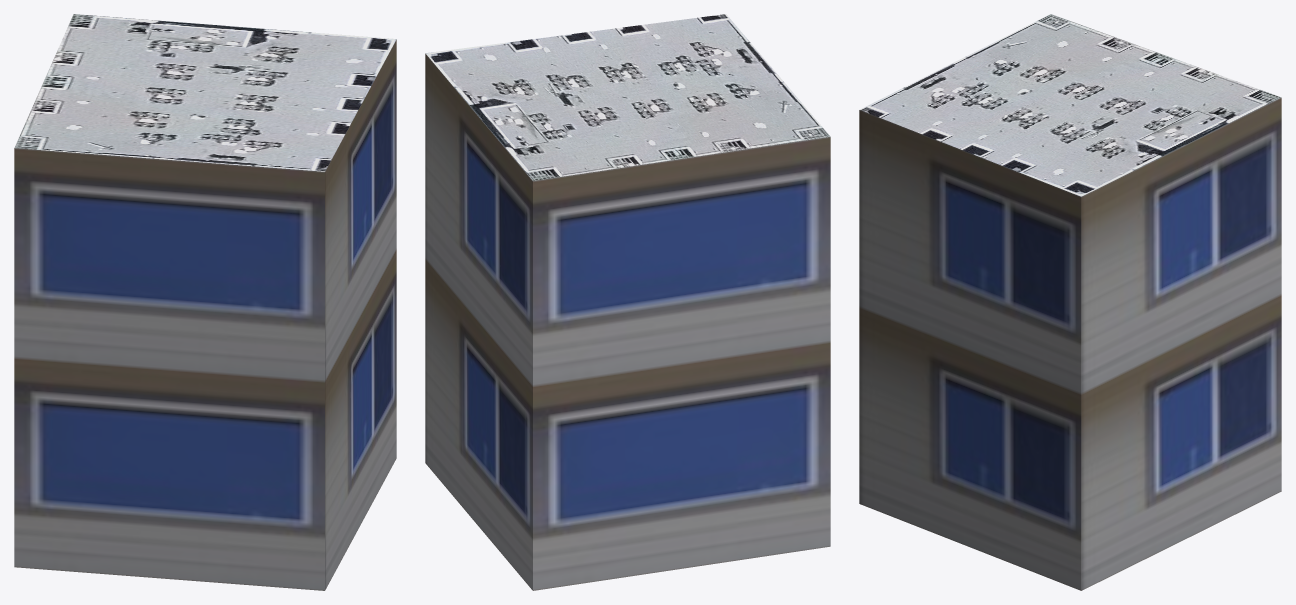
The model's file is ResTex__1619.fbx.
3 views of the same model, side by side, from view 1: azimuth 30°, elevation 25°; view 2: azimuth 150°, elevation 25°; view 3: azimuth 270°, elevation 25° (orthographic). The views are drawn at different scales.
Parts seen in each view (by area): view 1: CityEngineMaterial_23_m, CityEngineMaterial_2_m; view 2: CityEngineMaterial_23_m, CityEngineMaterial_2_m; view 3: CityEngineMaterial_23_m, CityEngineMaterial_2_m.
Part boxes in pixels (x1,y1,x2,y2): CityEngineMaterial_23_m: (14, 39, 396, 590); CityEngineMaterial_2_m: (14, 14, 396, 171); CityEngineMaterial_23_m: (425, 53, 830, 590); CityEngineMaterial_2_m: (425, 14, 830, 180); CityEngineMaterial_23_m: (859, 97, 1281, 590); CityEngineMaterial_2_m: (859, 14, 1281, 196).
Bounding box in the file's own units: 5.97 × 6 × 5.83.
Materials: 2 (2 with a texture image).
